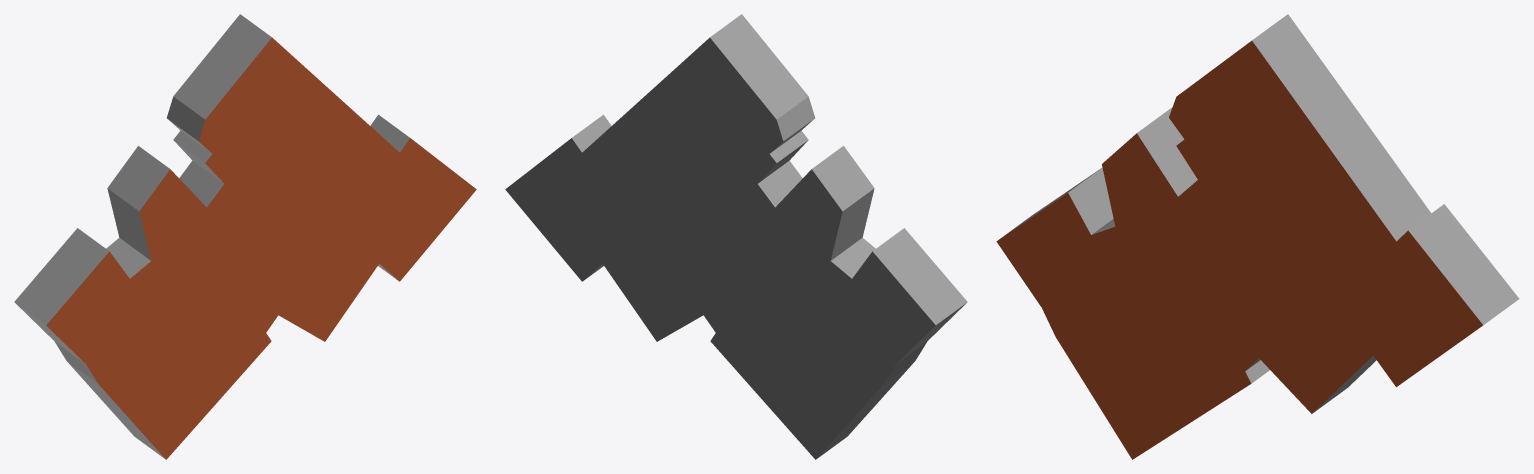
File: construction_5839_assumed_A_Casa_h6m.obj
The picture shows the model from 3 angles, left to right: view 1: azimuth 30°, elevation 25°; view 2: azimuth 150°, elevation 25°; view 3: azimuth 330°, elevation 25°; orthographic projection. The views are drawn at different scales.
Visible parts, largest first — view 1: construction_5839_assumed_A_Casa; view 2: construction_5839_assumed_A_Casa; view 3: construction_5839_assumed_A_Casa.
Boxes of the visible parts, x1=… form: construction_5839_assumed_A_Casa: x1=14, y1=14, x2=476, y2=459; construction_5839_assumed_A_Casa: x1=505, y1=14, x2=967, y2=459; construction_5839_assumed_A_Casa: x1=996, y1=14, x2=1519, y2=459.
Bounding box in the file's own units: 46.65 × 41.07 × 6.
